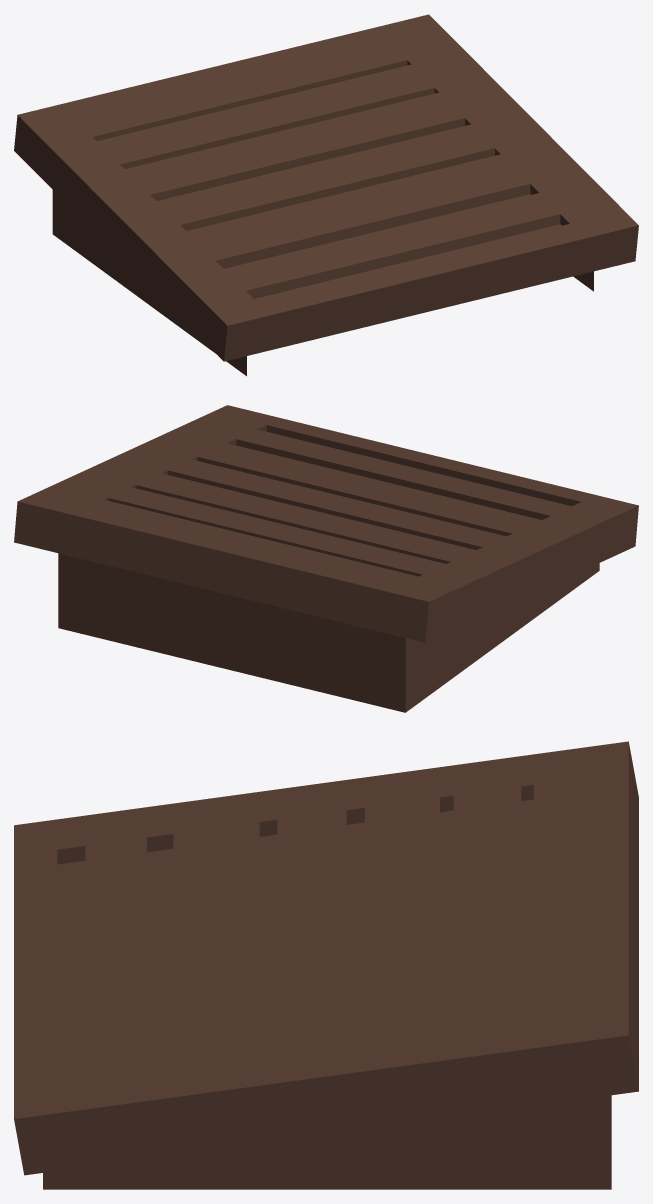
File: Switch.dae
The picture shows the model from 3 angles, top to bottom: view 1: azimuth 30°, elevation 25°; view 2: azimuth 150°, elevation 25°; view 3: azimuth 270°, elevation 25°; orthographic projection. The views are drawn at different scales.
Visible parts, largest first — view 1: polySurface2, polySurface3; view 2: polySurface2, polySurface3; view 3: polySurface2, polySurface3.
Part boxes in pixels (x1,y1,x2,y2): polySurface2: (14, 14, 638, 361); polySurface3: (52, 190, 593, 376); polySurface2: (14, 405, 638, 642); polySurface3: (58, 553, 599, 712); polySurface2: (14, 741, 638, 1175); polySurface3: (43, 1095, 611, 1189).
Bounding box in the file's own units: 2.6 × 0.7406 × 2.34.
